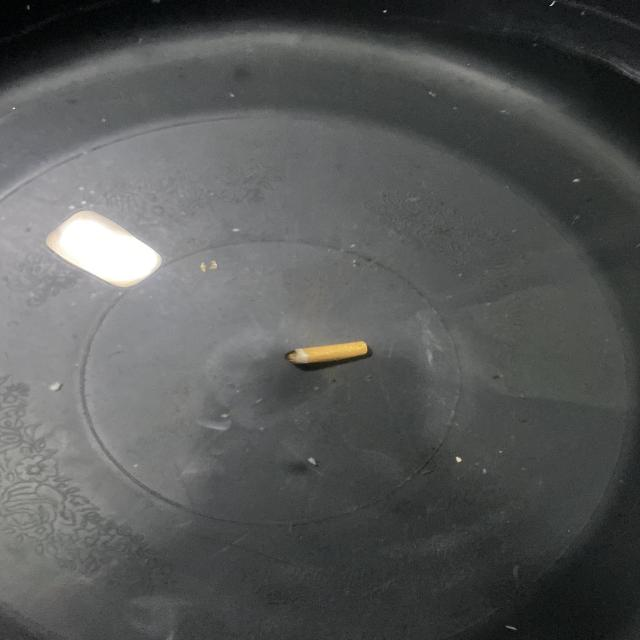Cigarette Filter: (285, 341, 371, 367)
